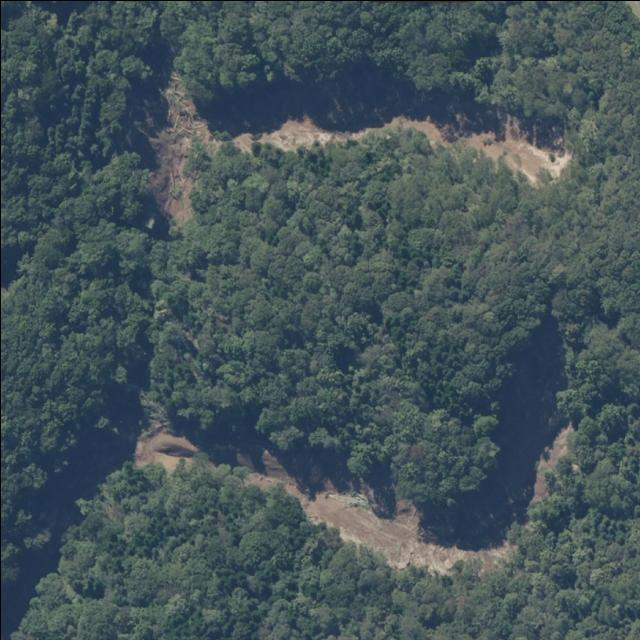landslide: (230, 115, 571, 184), (146, 72, 217, 226)
